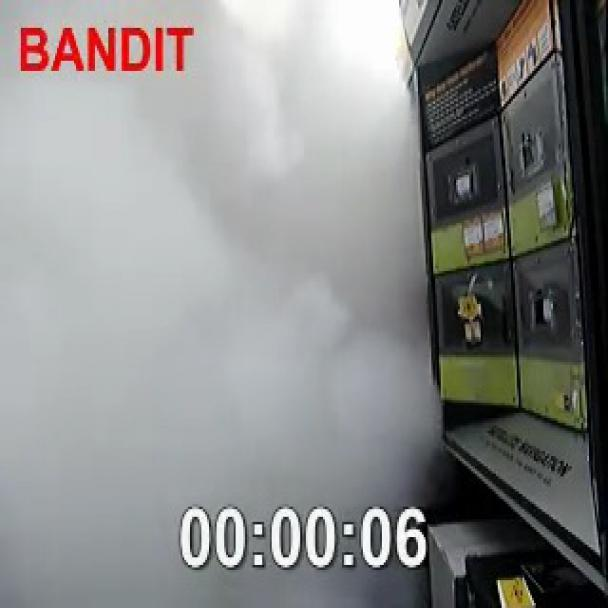smoke: (0, 0, 588, 601)
